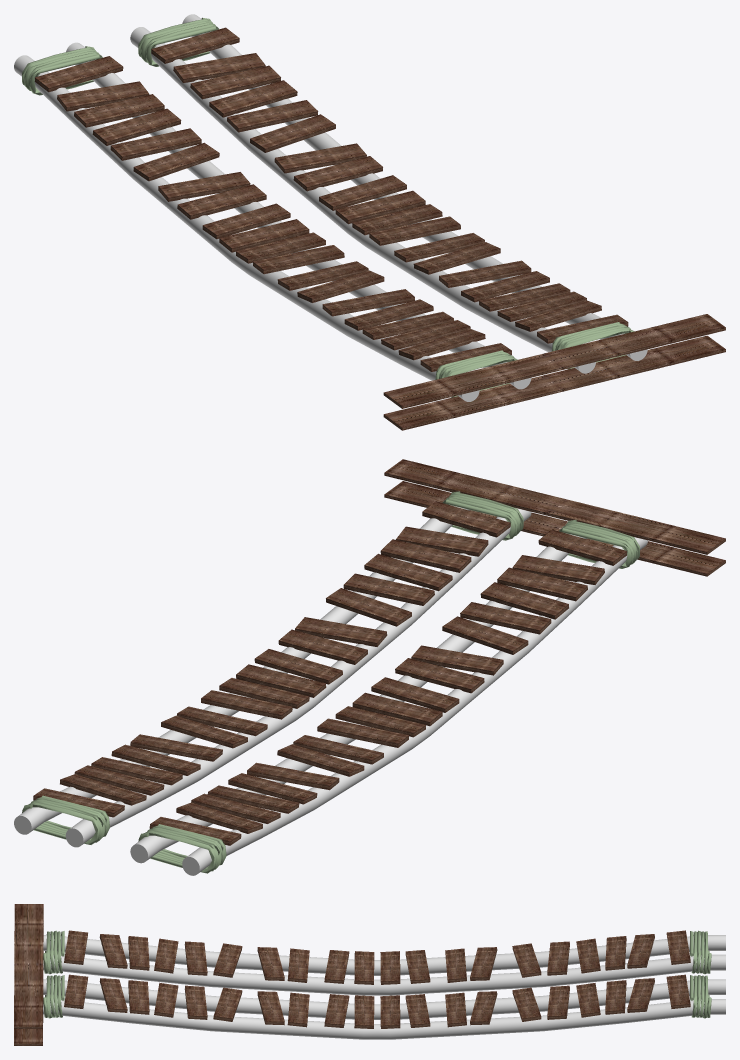
File: 2_bridge_straight_nobase.fbx
The picture shows the model from 3 angles, top to bottom: view 1: azimuth 30°, elevation 25°; view 2: azimuth 150°, elevation 25°; view 3: azimuth 270°, elevation 25°; orthographic projection. The views are drawn at different scales.
Parts seen in each view (by area): view 1: 2_straight_LaR, 2_straight_LaL, 2_straight_verschlag, 2_straight_LaR_ropes, 2_straight_LaL_ropes; view 2: 2_straight_LaR, 2_straight_LaL, 2_straight_verschlag, 2_straight_LaR_ropes, 2_straight_LaL_ropes; view 3: 2_straight_LaL, 2_straight_LaR, 2_straight_verschlag, 2_straight_LaL_ropes, 2_straight_LaR_ropes.
Boxes of the visible parts, left/top/right/bottom form: 2_straight_LaR: left=130, top=14, right=647, bottom=373; 2_straight_LaL: left=14, top=42, right=531, bottom=401; 2_straight_verschlag: left=383, top=314, right=725, bottom=430; 2_straight_LaR_ropes: left=138, top=17, right=634, bottom=369; 2_straight_LaL_ropes: left=22, top=46, right=517, bottom=397; 2_straight_LaR: left=14, top=501, right=531, bottom=847; 2_straight_LaL: left=130, top=529, right=647, bottom=875; 2_straight_verschlag: left=384, top=459, right=725, bottom=576; 2_straight_LaR_ropes: left=22, top=491, right=523, bottom=844; 2_straight_LaL_ropes: left=138, top=519, right=639, bottom=873; 2_straight_LaL: left=43, top=930, right=725, bottom=995; 2_straight_LaR: left=43, top=974, right=725, bottom=1039; 2_straight_verschlag: left=14, top=904, right=43, bottom=1045; 2_straight_LaL_ropes: left=43, top=930, right=711, bottom=974; 2_straight_LaR_ropes: left=43, top=975, right=711, bottom=1018.
Bounding box in the file's own units: 50.01 × 8.24 × 123.
3 materials, 1 textured.
